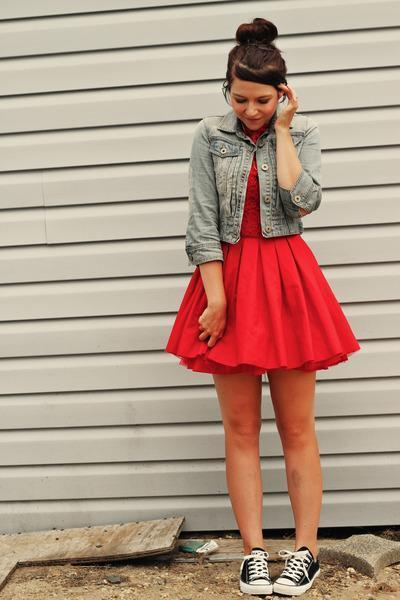jacket: (180, 92, 347, 276)
shirt: (204, 111, 275, 267)
shoe: (238, 540, 311, 599)
skirt: (156, 235, 371, 395)
